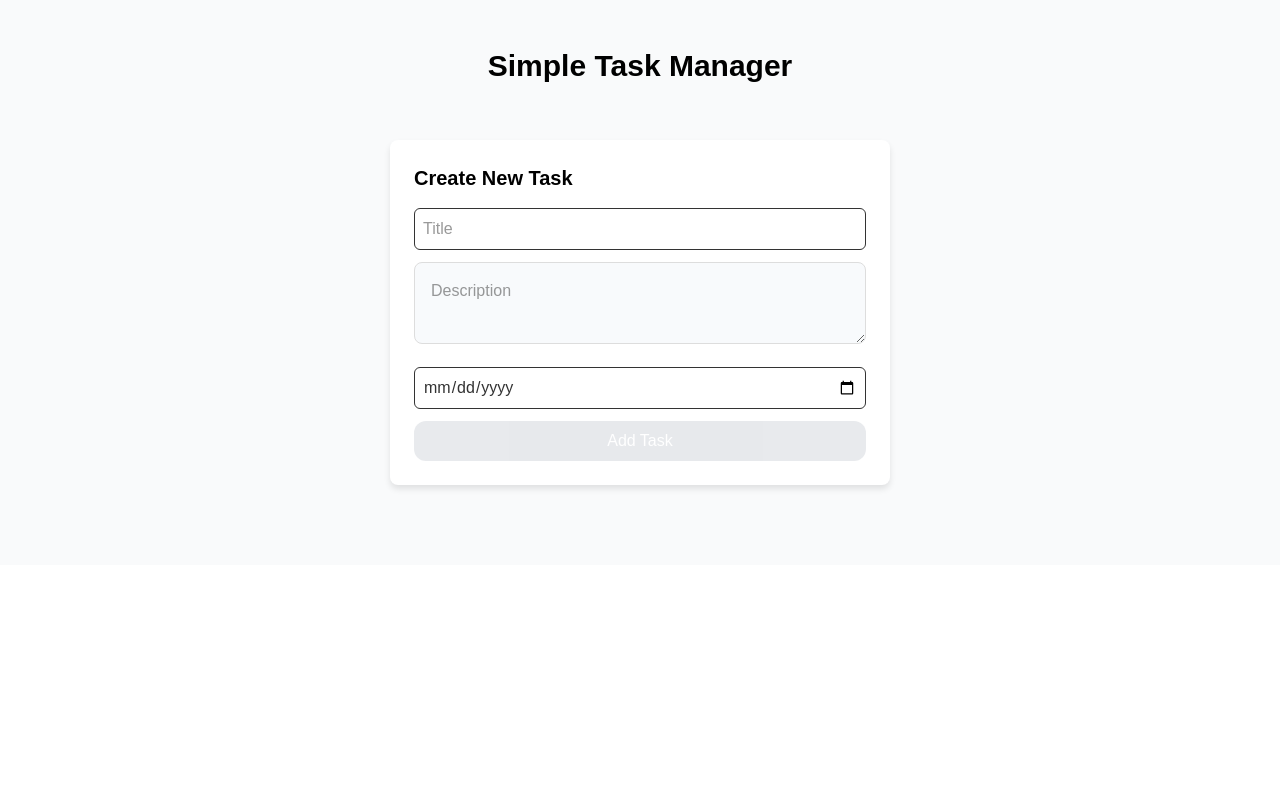
Test: Simple Task Manager › should allow a user to delete a task
Add a task to delete
Type "Test Task Delete" into the field with placeholder "Title".
click(640, 229); type("Test Task Delete")  # box [414,208,866,250]
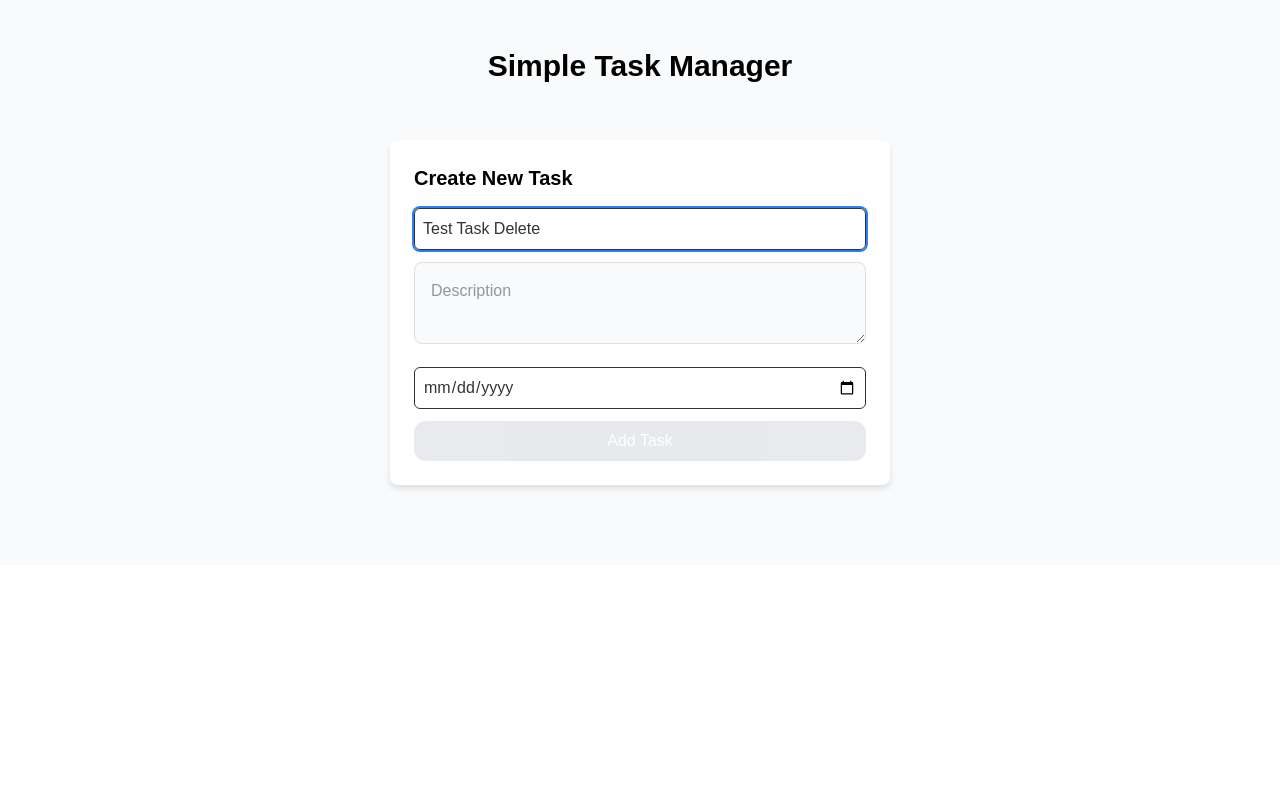
Type "Description for delete task" into the text box with placeholder "Description".
click(640, 303); type("Description for delete task")  # box [414,262,866,344]
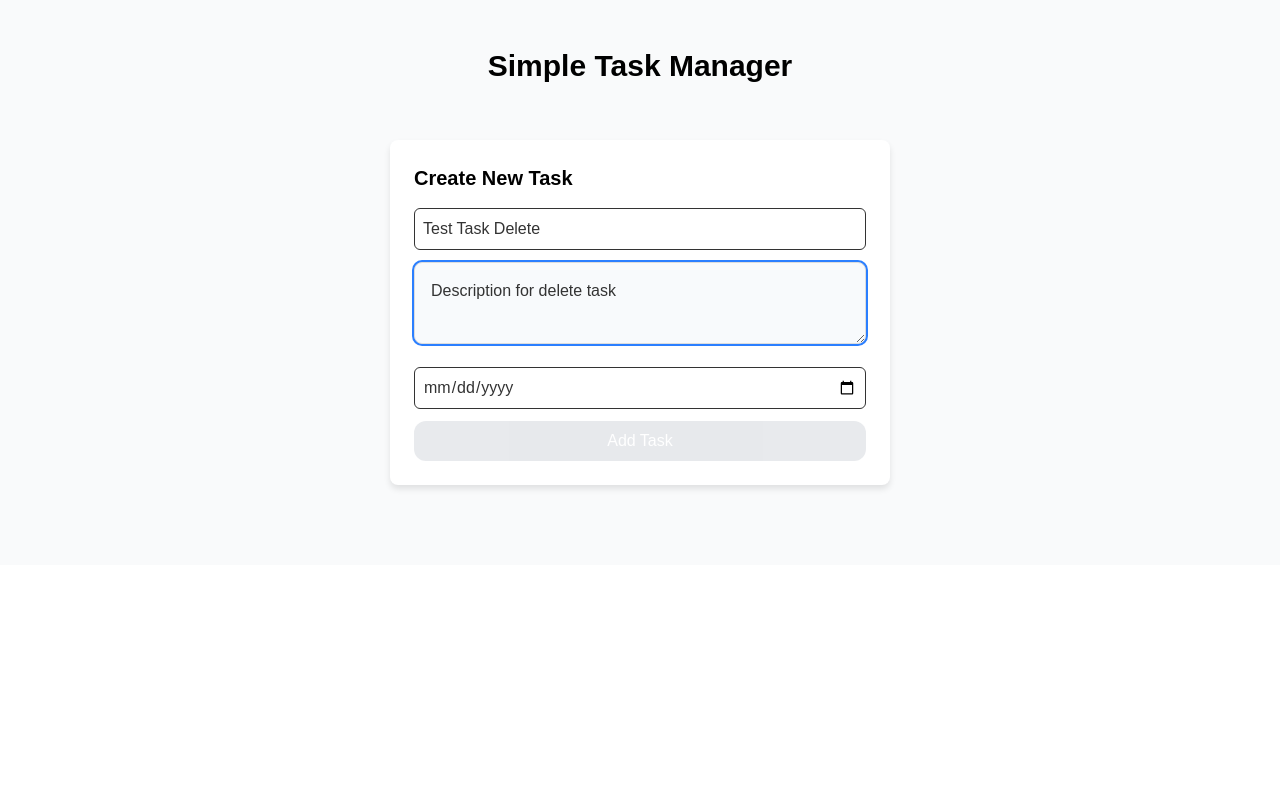
Type "2025-12-25" into the date field.
click(640, 388); type("2025-12-25")  # box [414,367,866,409]
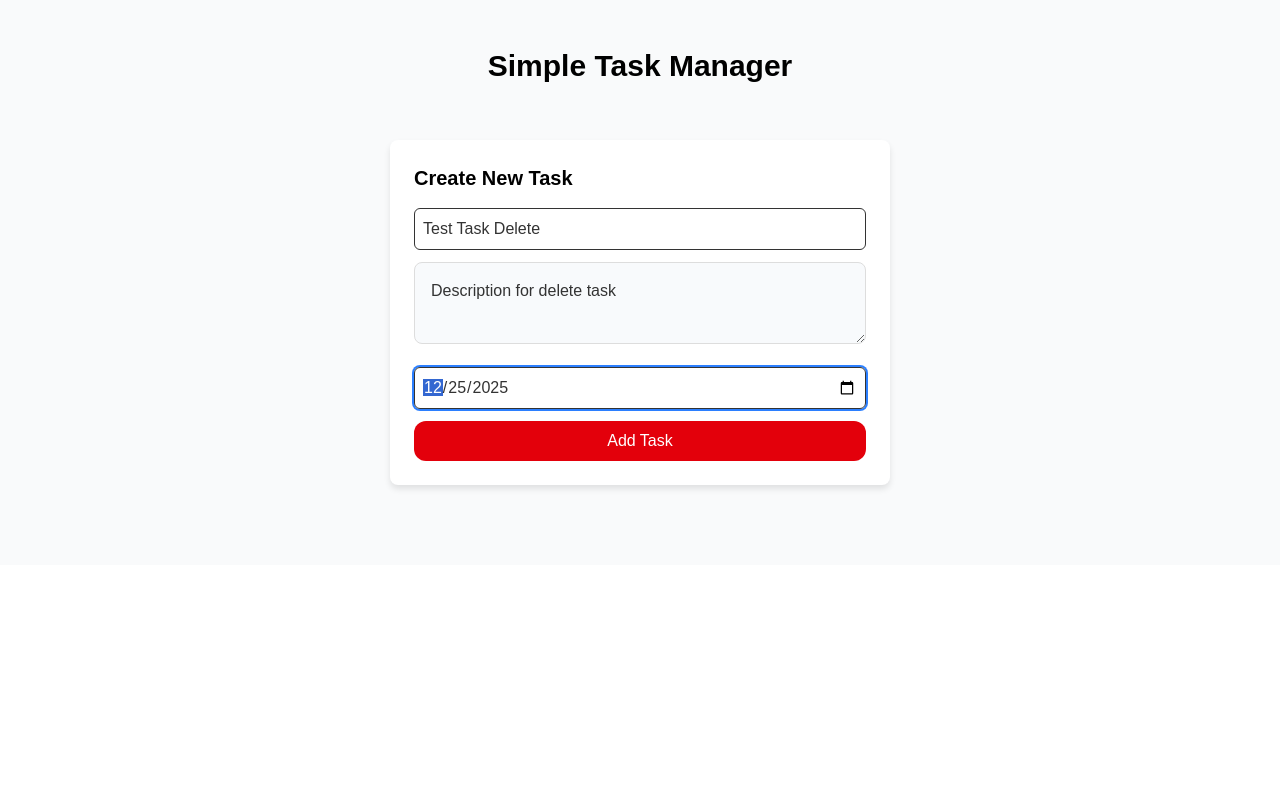
Click the submit button.
click(640, 441)  # box [414,421,866,461]
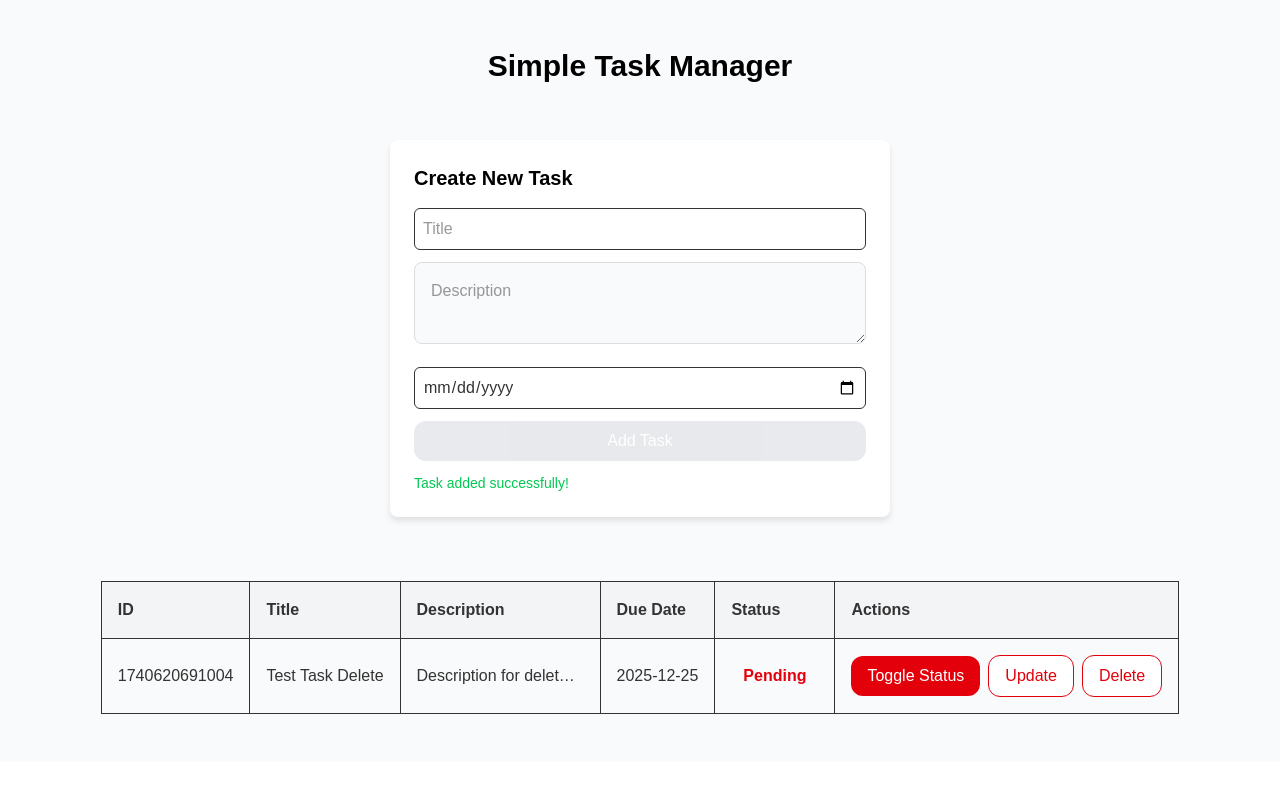
Delete the task
Click the button "Delete".
click(1122, 676)  # box [1082,655,1162,697]
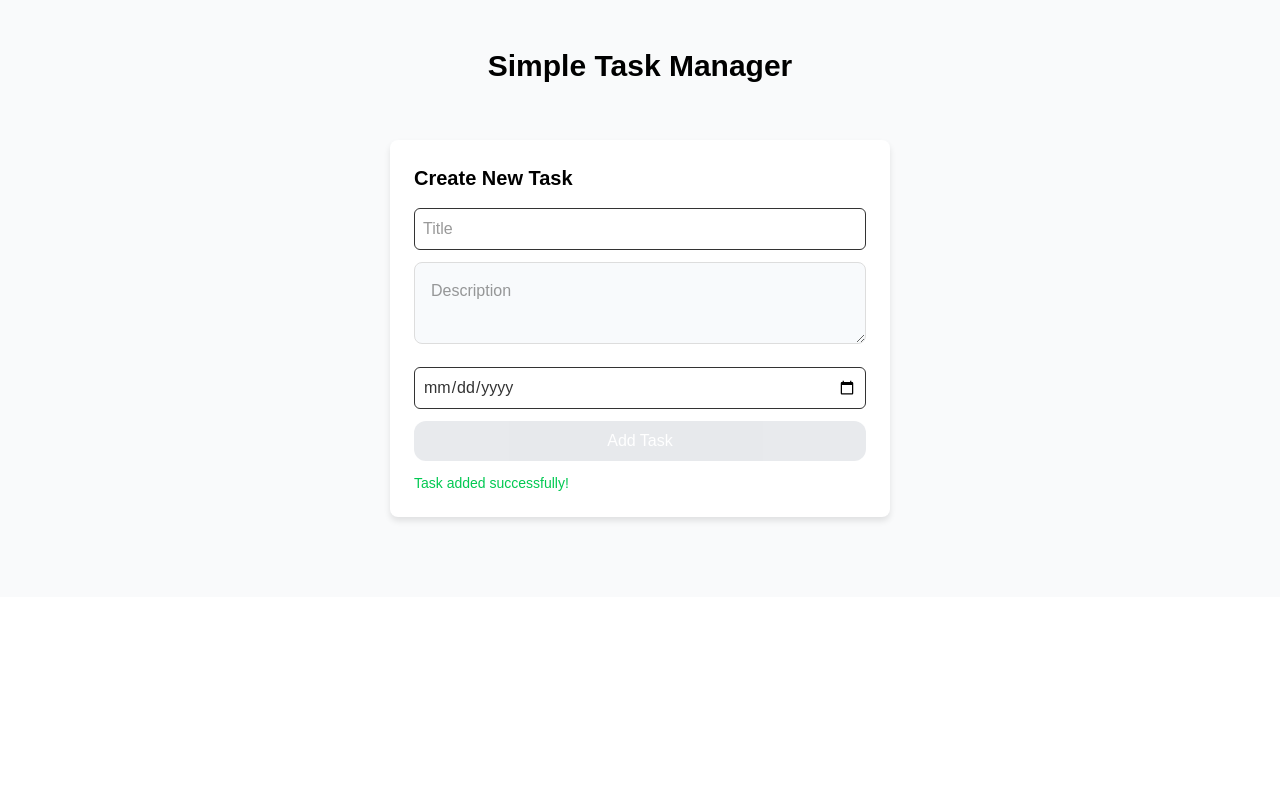
Check: the text "Test Task Delete" is gone
